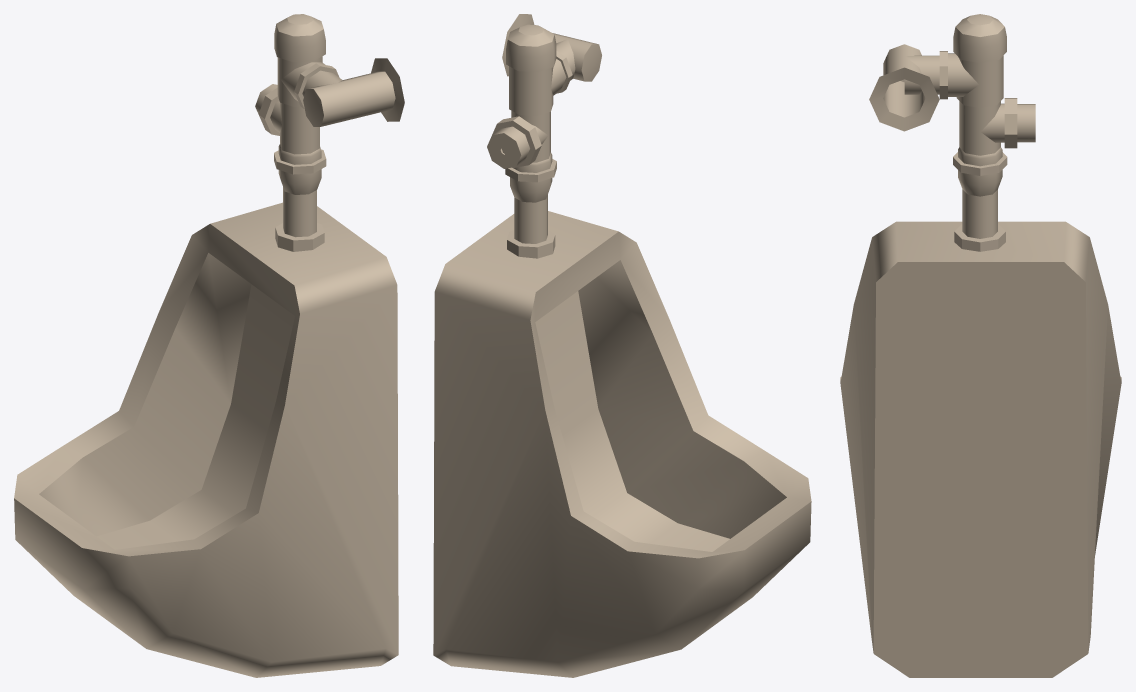
The model's file is Mingitorio.fbx.
3 renders of one model, left to right at view 1: azimuth 30°, elevation 25°; view 2: azimuth 150°, elevation 25°; view 3: azimuth 270°, elevation 25°, orthographic. The views are drawn at different scales.
Visible parts, largest first — view 1: Mingitorio; view 2: Mingitorio; view 3: Mingitorio.
Boxes of the visible parts, x1,y1,x2,y2 form: Mingitorio: [14, 14, 404, 677]; Mingitorio: [433, 14, 811, 677]; Mingitorio: [840, 14, 1121, 677].
Bounding box in the file's own units: 0.405 × 0.8146 × 0.3253.
